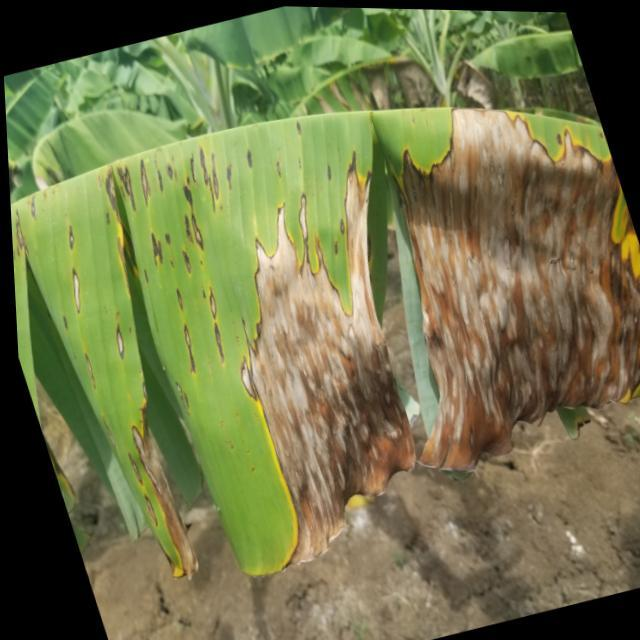Early_rust: (6, 114, 640, 596)
